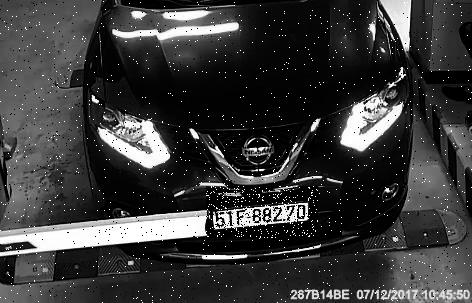License-plate: (207, 187, 319, 239)
